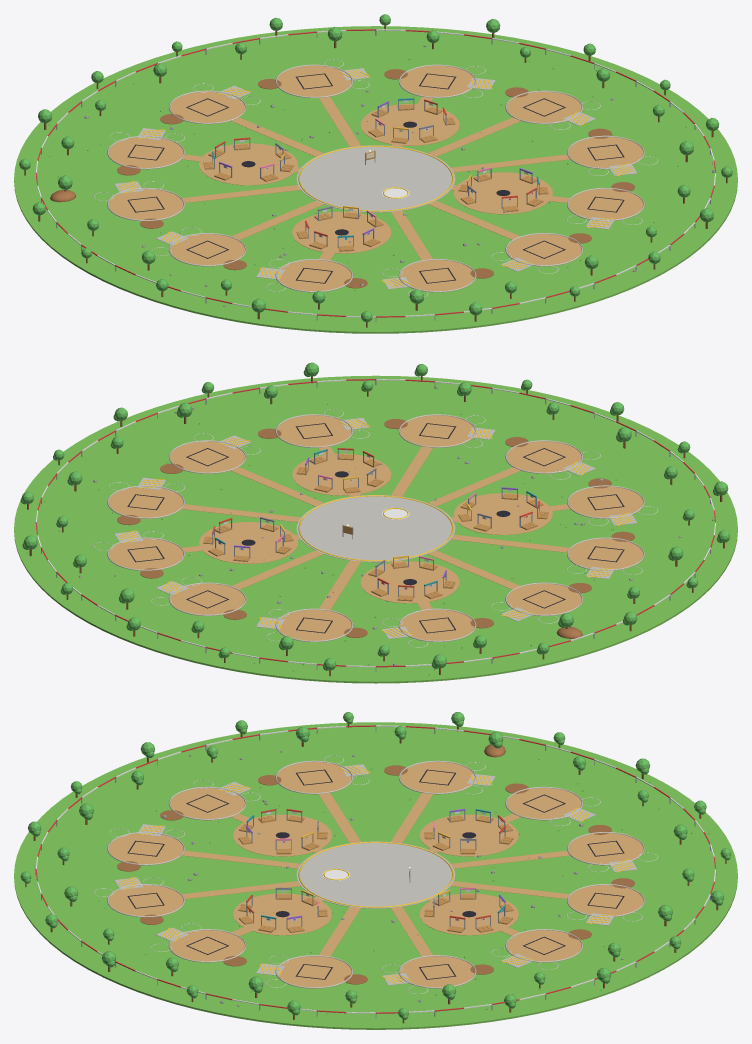
The model's file is site.cf04fba5.glb.
3 views of the same model, one above another, from view 1: azimuth 30°, elevation 25°; view 2: azimuth 150°, elevation 25°; view 3: azimuth 270°, elevation 25° (orthographic).
Parts seen in each view (by area): view 1: Site__T_grass, Site__T_dirt, Site__T_vcol, Site__T_concrete, Site__T_mound; view 2: Site__T_grass, Site__T_dirt, Site__T_vcol, Site__T_concrete, Site__T_mound; view 3: Site__T_grass, Site__T_dirt, Site__T_vcol, Site__T_concrete, Site__T_mound.
Boxes of the visible parts, x1,y1,x2,y2 form: Site__T_grass: (14,26,737,333); Site__T_dirt: (108,65,643,292); Site__T_vcol: (19,14,732,327); Site__T_concrete: (107,64,644,292); Site__T_mound: (50,69,634,288); Site__T_grass: (14,375,737,683); Site__T_dirt: (108,415,643,641); Site__T_vcol: (20,362,730,676); Site__T_concrete: (107,414,644,641); Site__T_mound: (117,419,634,638); Site__T_grass: (14,722,737,1029); Site__T_dirt: (108,761,643,988); Site__T_vcol: (20,712,731,1023); Site__T_concrete: (107,760,644,988); Site__T_mound: (117,744,634,984).
Size of the model in its own units: 73 by 8.45 by 73.
